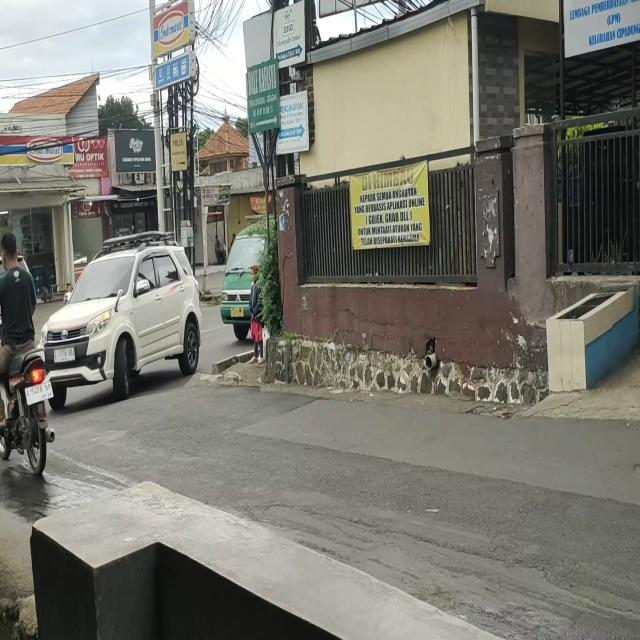no-helmet: (0, 230, 19, 274)
